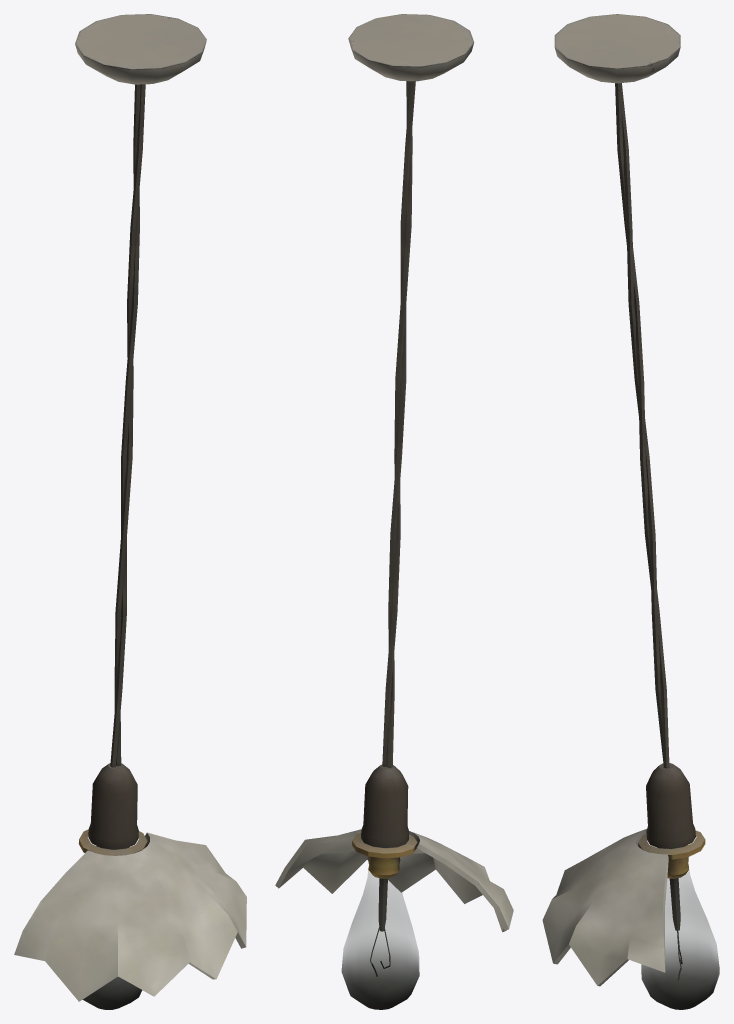
The model's file is dressing_bulb.glb.
The picture shows the model from 3 angles, left to right: view 1: azimuth 30°, elevation 25°; view 2: azimuth 150°, elevation 25°; view 3: azimuth 270°, elevation 25°; orthographic projection. The views are drawn at different scales.
Visible parts, largest first — view 1: dressing_bulb, dressing_bulb_glass; view 2: dressing_bulb, dressing_bulb_glass; view 3: dressing_bulb, dressing_bulb_glass.
Part boxes in pixels (x1,y1,x2,y2): dressing_bulb: [14, 14, 246, 1001]; dressing_bulb_glass: [82, 976, 142, 1009]; dressing_bulb: [275, 14, 513, 976]; dressing_bulb_glass: [341, 871, 419, 1009]; dressing_bulb: [542, 14, 705, 986]; dressing_bulb_glass: [641, 871, 719, 1009].
Bounding box in the file's own units: 0.2032 × 0.8235 × 0.137.
2 materials, 2 textured.
